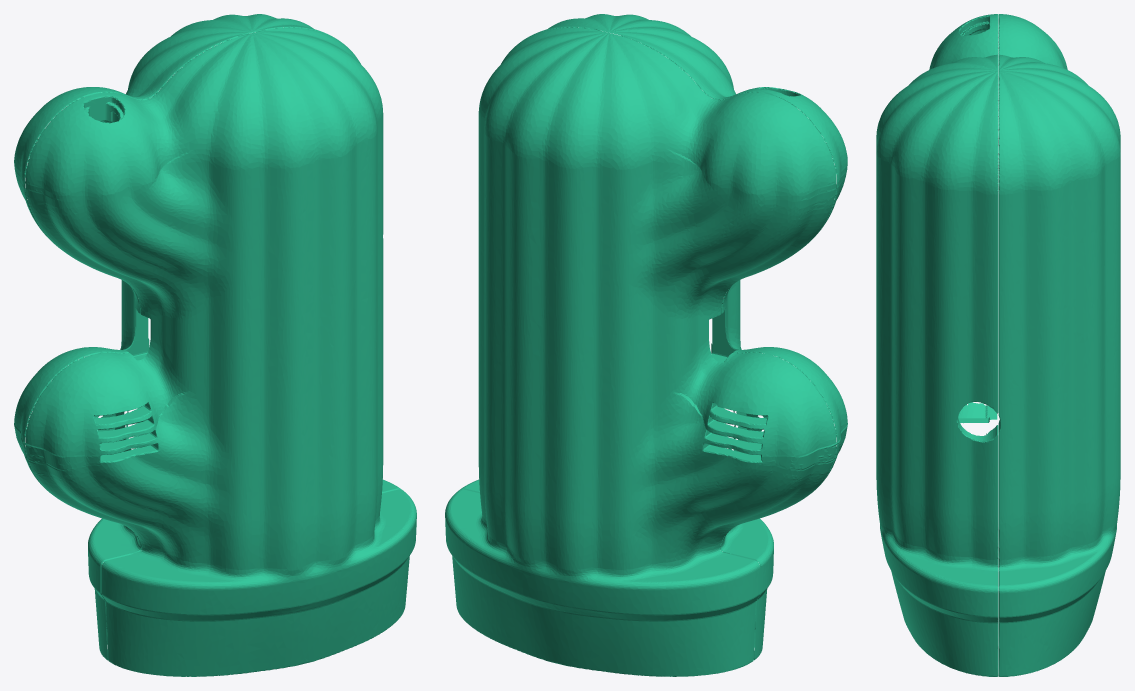
Rendered from cactus.glb.
3 views of the same model, side by side, from view 1: azimuth 30°, elevation 25°; view 2: azimuth 150°, elevation 25°; view 3: azimuth 270°, elevation 25° (orthographic). The views are drawn at different scales.
Parts seen in each view (by area): view 1: carcasa; view 2: carcasa; view 3: carcasa.
Boxes of the visible parts, x1,y1,x2,y2 form: carcasa: (14, 14, 416, 676); carcasa: (445, 14, 847, 676); carcasa: (876, 14, 1120, 676).
Bounding box in the file's own units: 97.75 × 146 × 59.6.
